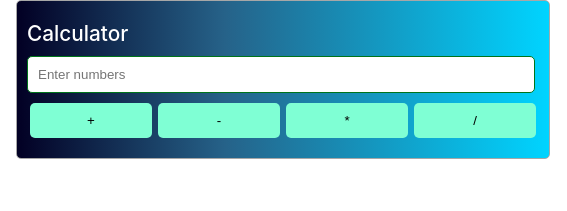
Test case: Calculator Component › calculates the sum of an empty string as 0
The width and height of the screenshot is (567, 211).
Click the button "+" at (91, 120), box x1=30 y1=103 x2=152 y2=138
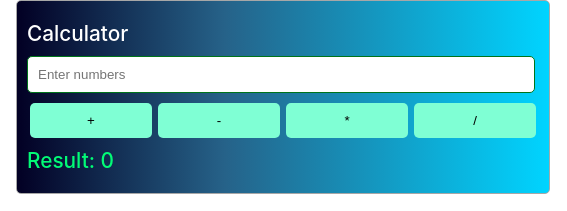
Expected: the text "Result: 0" is shown, x1=27 y1=148 x2=114 y2=173
